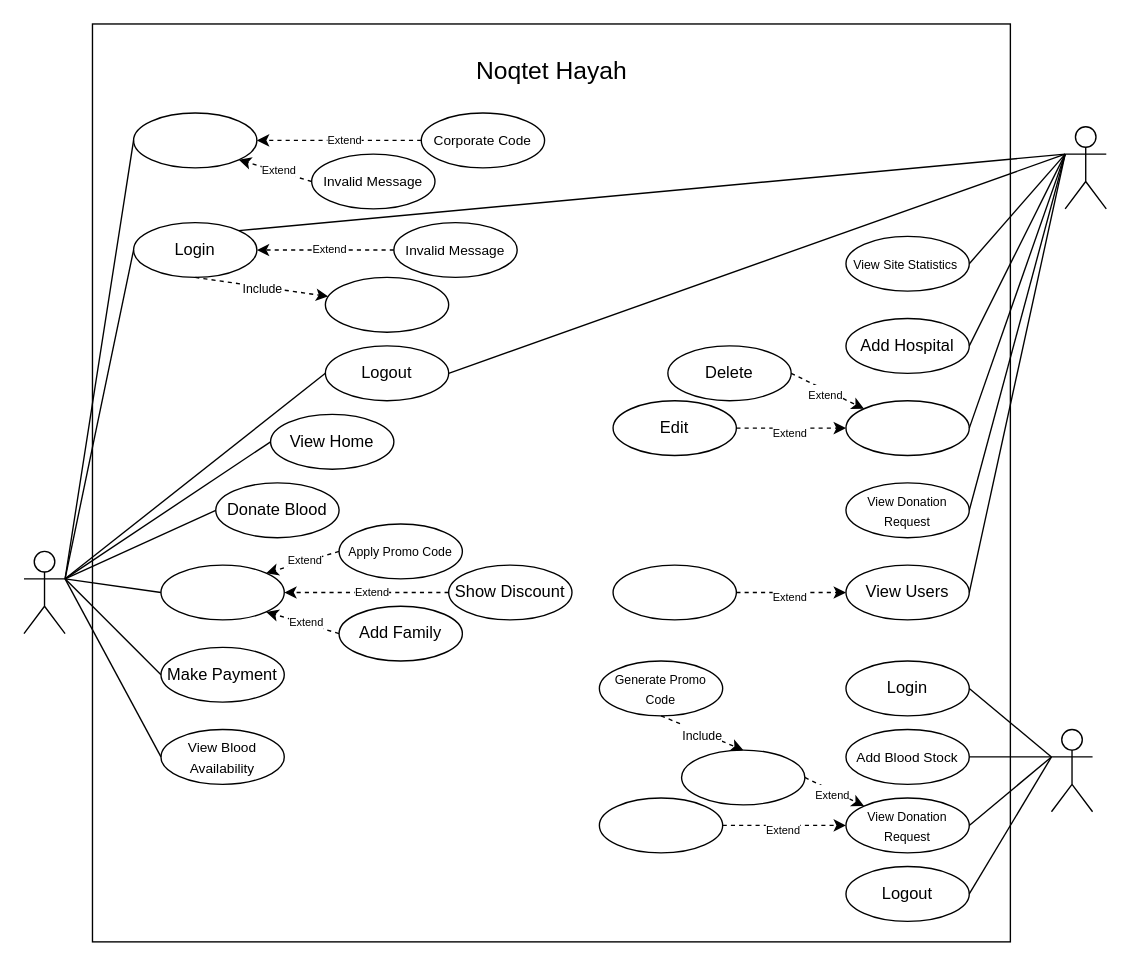
The diagram is 1133 pixels wide and 966 high, and some of its shapes have lost their labels. The shapes that lost their labels are listed below. From the top down, each one's box as (x1, y1, x2, y2) in pixels, then its label:
(132, 112, 257, 168): Register
(1064, 125, 1106, 209): Admin
(324, 276, 449, 332): Verify Cardinality
(845, 399, 969, 456): View Hospital
(23, 550, 65, 634): User
(160, 564, 284, 620): Subscribe
(612, 564, 736, 620): Delete User
(680, 749, 805, 805): Accept
(1050, 728, 1093, 812): Hospital
(598, 797, 723, 853): Reject
